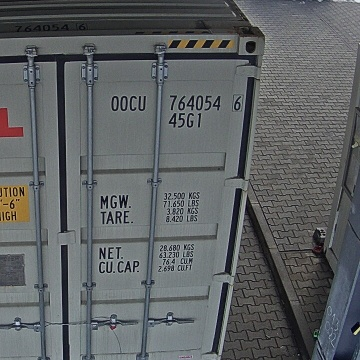serial_id: (111, 95, 241, 111)
